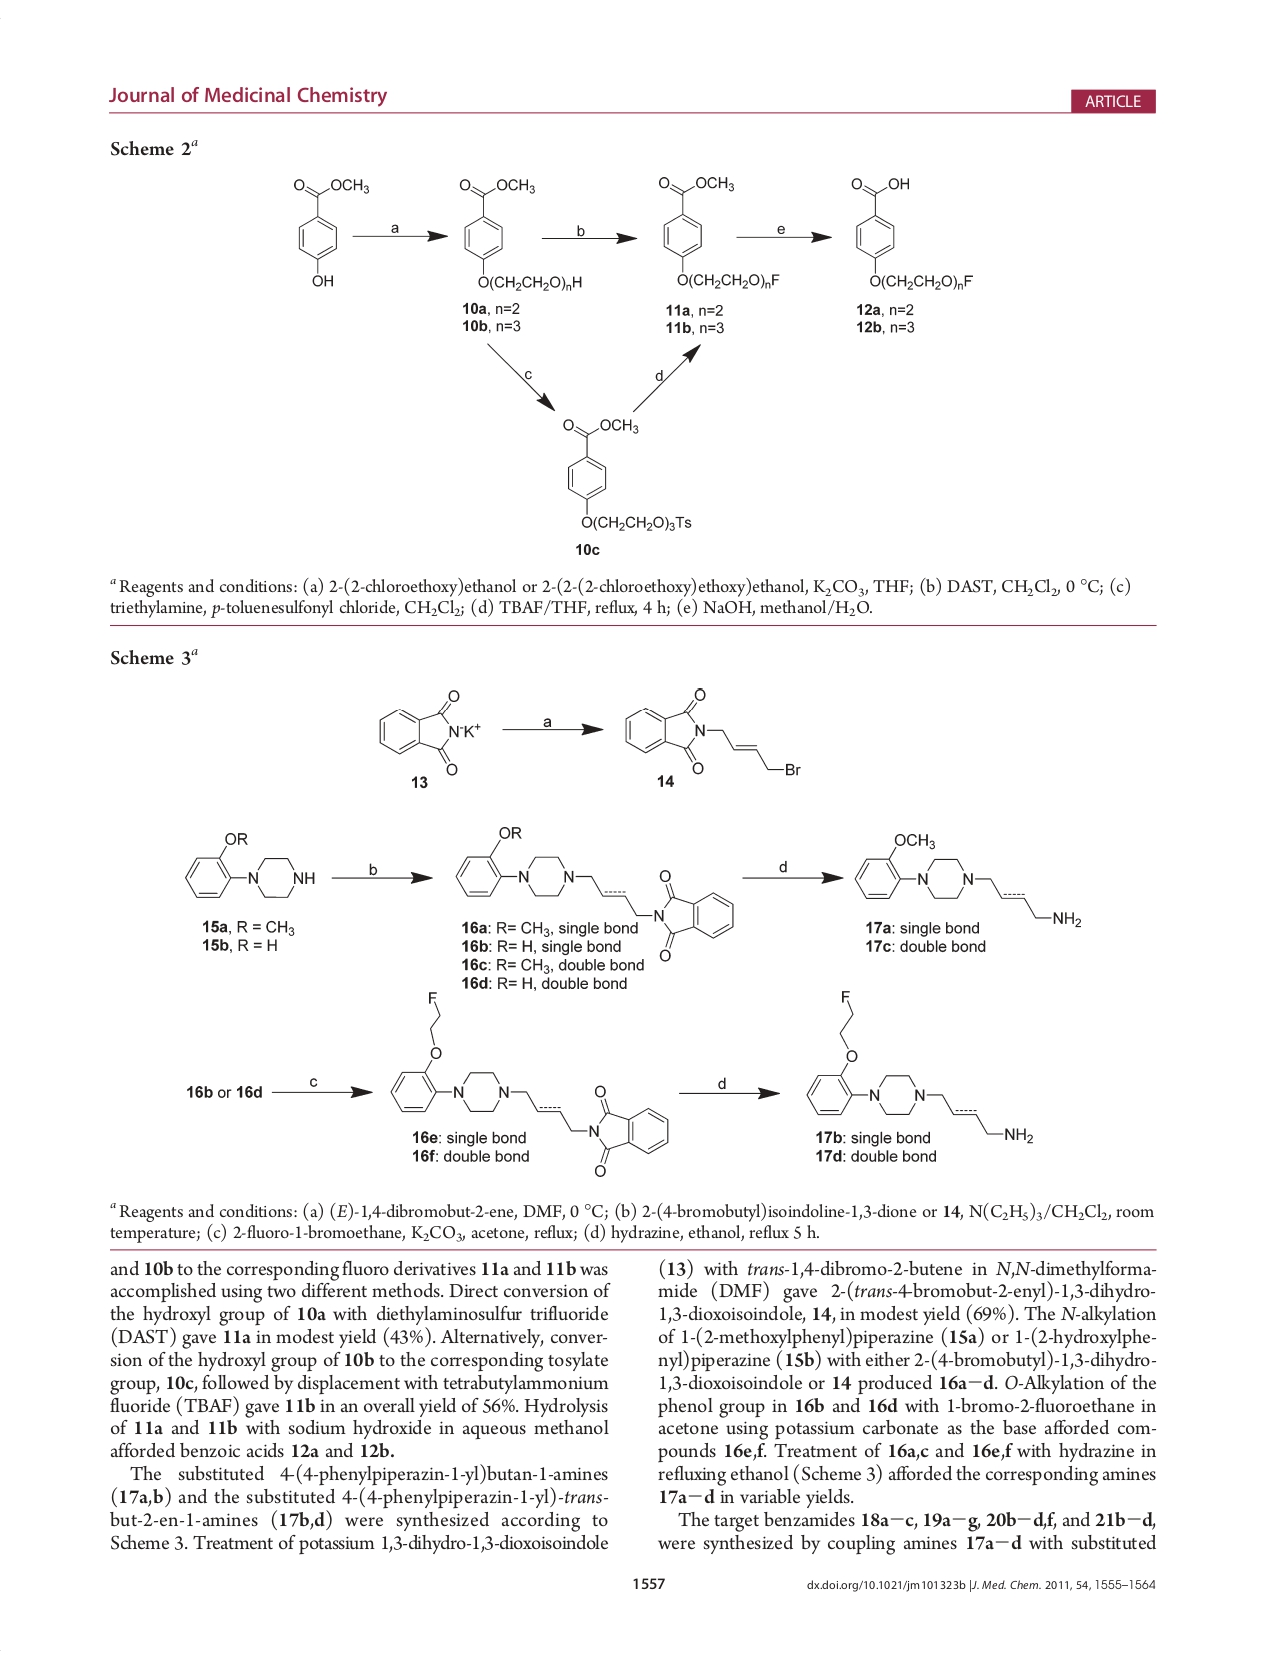exist_molecular: (387, 985, 676, 1178), (801, 980, 1039, 1150), (449, 823, 737, 962), (848, 827, 1084, 930), (618, 686, 806, 781), (846, 170, 976, 299), (453, 173, 588, 297), (555, 414, 694, 532), (656, 170, 783, 297), (177, 825, 316, 902), (372, 688, 485, 779), (289, 169, 368, 289)
